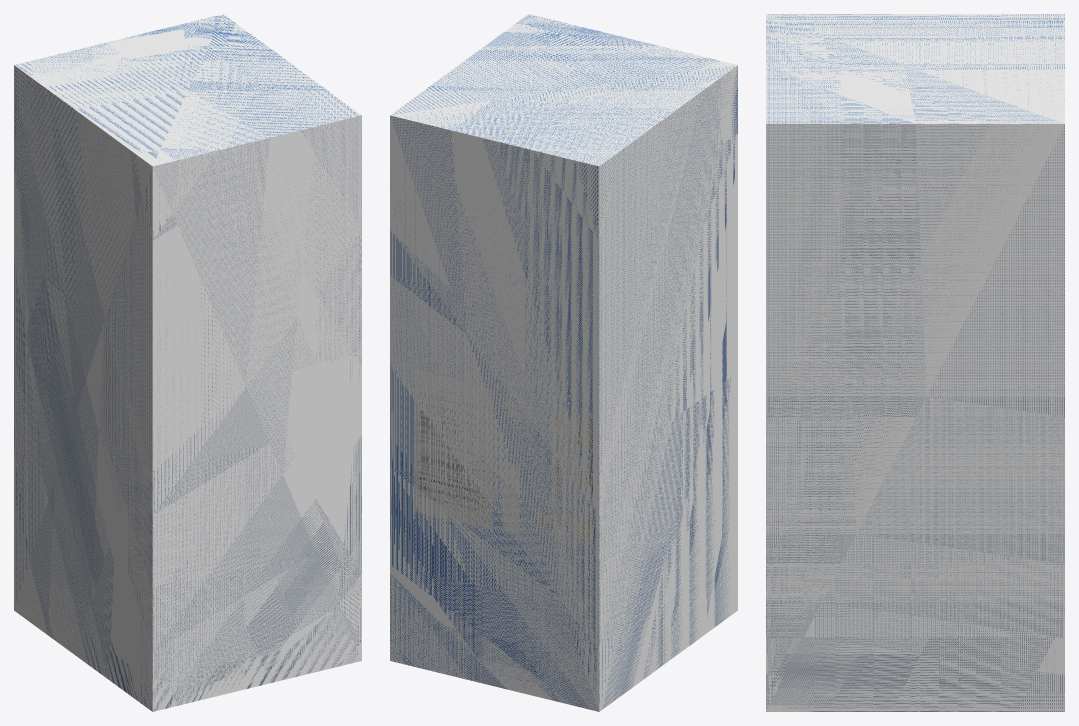
File: tea_box.obj
The picture shows the model from 3 angles, left to right: view 1: azimuth 30°, elevation 25°; view 2: azimuth 150°, elevation 25°; view 3: azimuth 270°, elevation 25°; orthographic projection. The views are drawn at different scales.
Visible parts, largest first — view 1: tea_box; view 2: tea_box; view 3: tea_box.
Boxes of the visible parts, box(x1,y1,x2,y2) form: tea_box: box(14, 14, 361, 711); tea_box: box(390, 14, 737, 711); tea_box: box(766, 14, 1064, 711).
Size of the model in its own units: 0.0633 by 0.1575 by 0.0726.
Materials: 6 (5 with a texture image).
